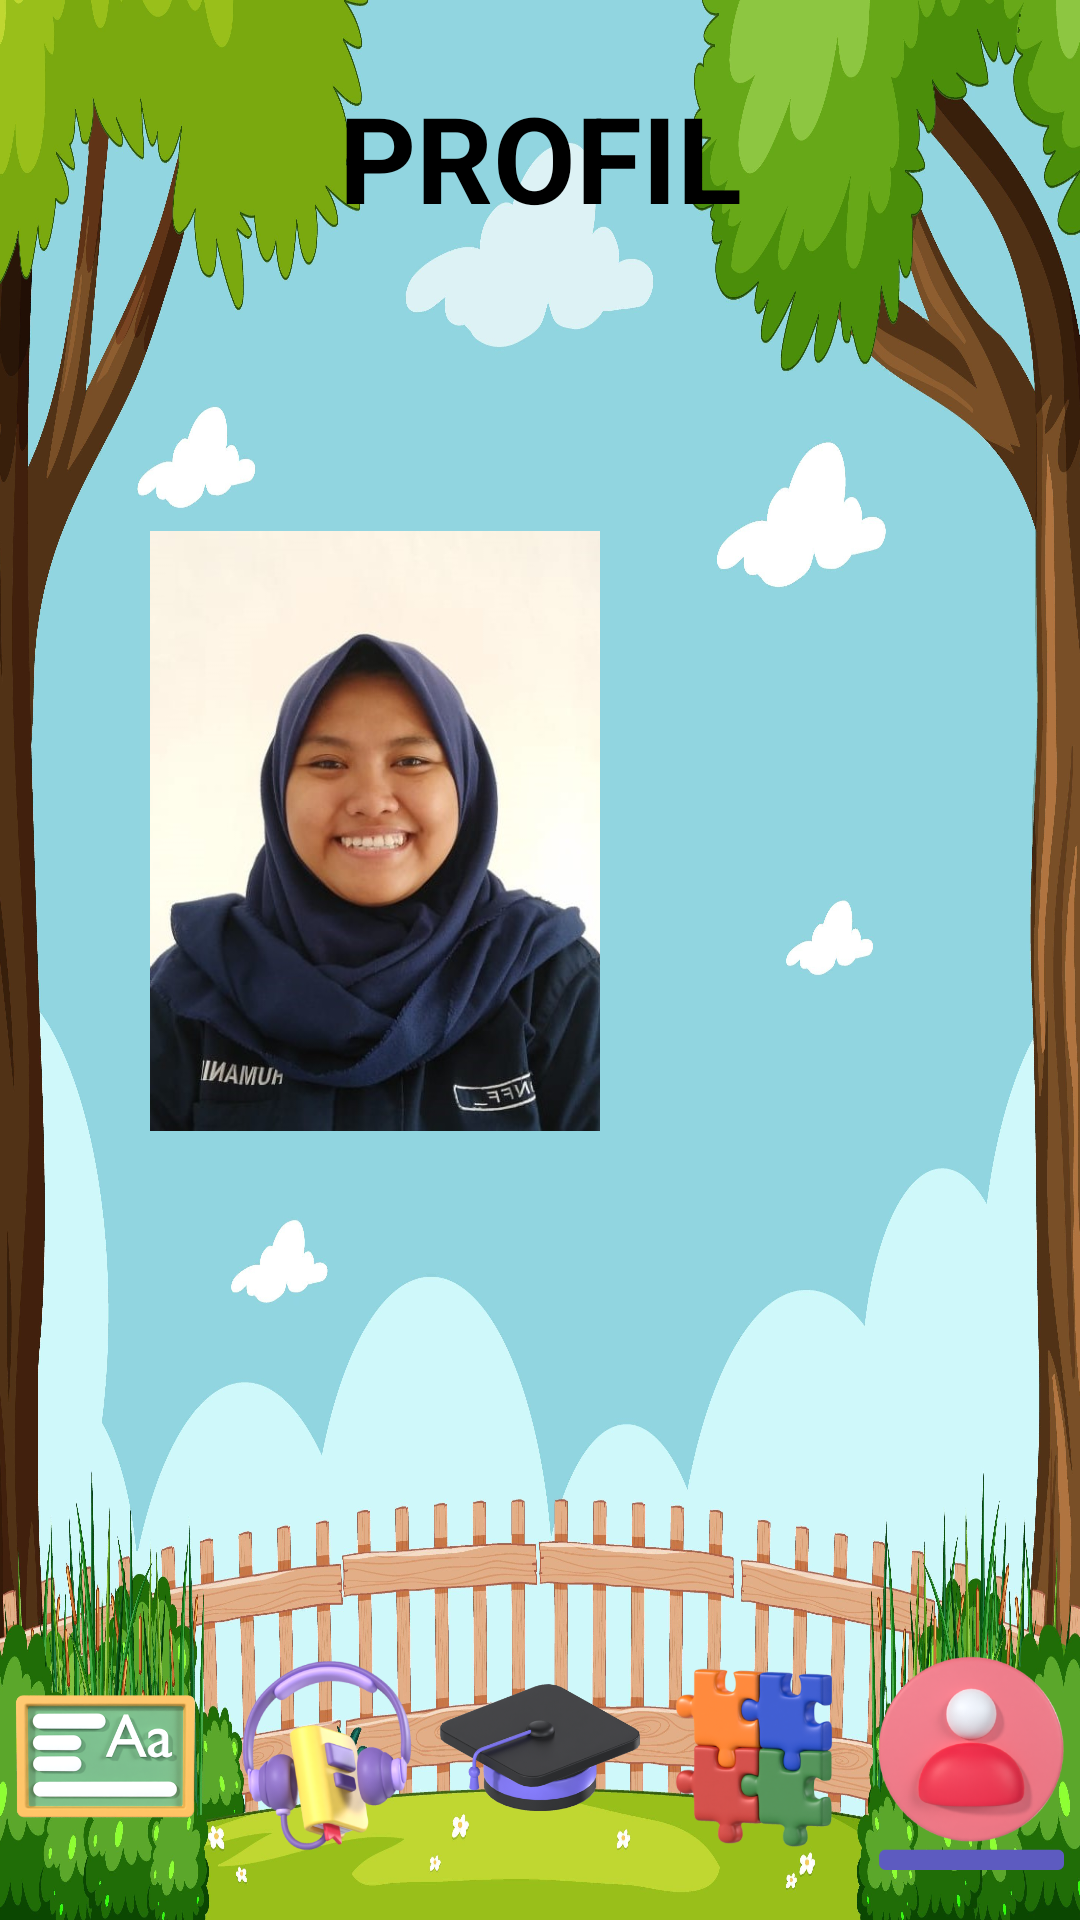

Where to tap for icons on this 1080×1920 app screen, as (x=x, y=y):
game: (x=756, y=1755)
profill: (x=972, y=1755)
